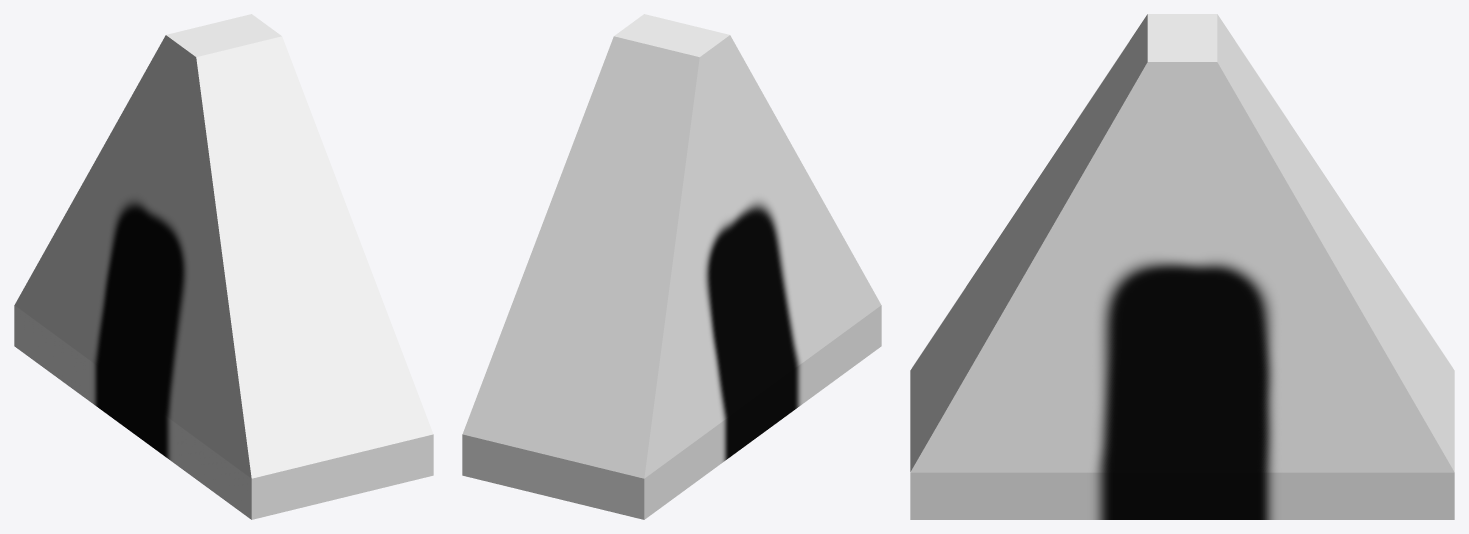
Rendered from onigiri.fbx.
3 views of the same model, side by side, from view 1: azimuth 30°, elevation 25°; view 2: azimuth 150°, elevation 25°; view 3: azimuth 270°, elevation 25° (orthographic). The views are drawn at different scales.
Parts seen in each view (by area): view 1: 立方体; view 2: 立方体; view 3: 立方体.
Part boxes in pixels (box(x1,y1,x2,y2)): 立方体: box(14, 14, 433, 519); 立方体: box(462, 14, 881, 519); 立方体: box(910, 14, 1454, 519).
Size of the model in its own units: 88.53 by 175 by 200.
